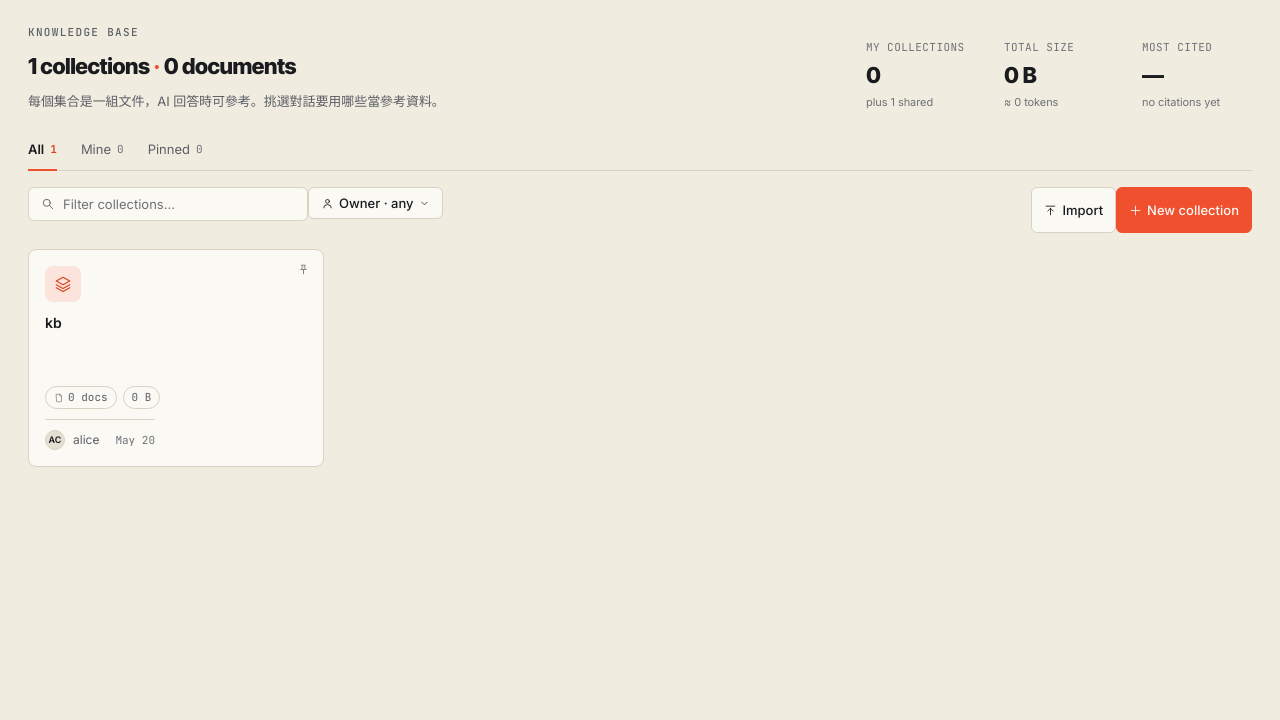
KbCollectionsPage › deletes the collection from the settings menu after confirmation
The image size is (1280, 720).
Step 1. Click the button with aria-label "Open kb" → x=63, y=284, box left=28, top=249, right=324, bottom=467
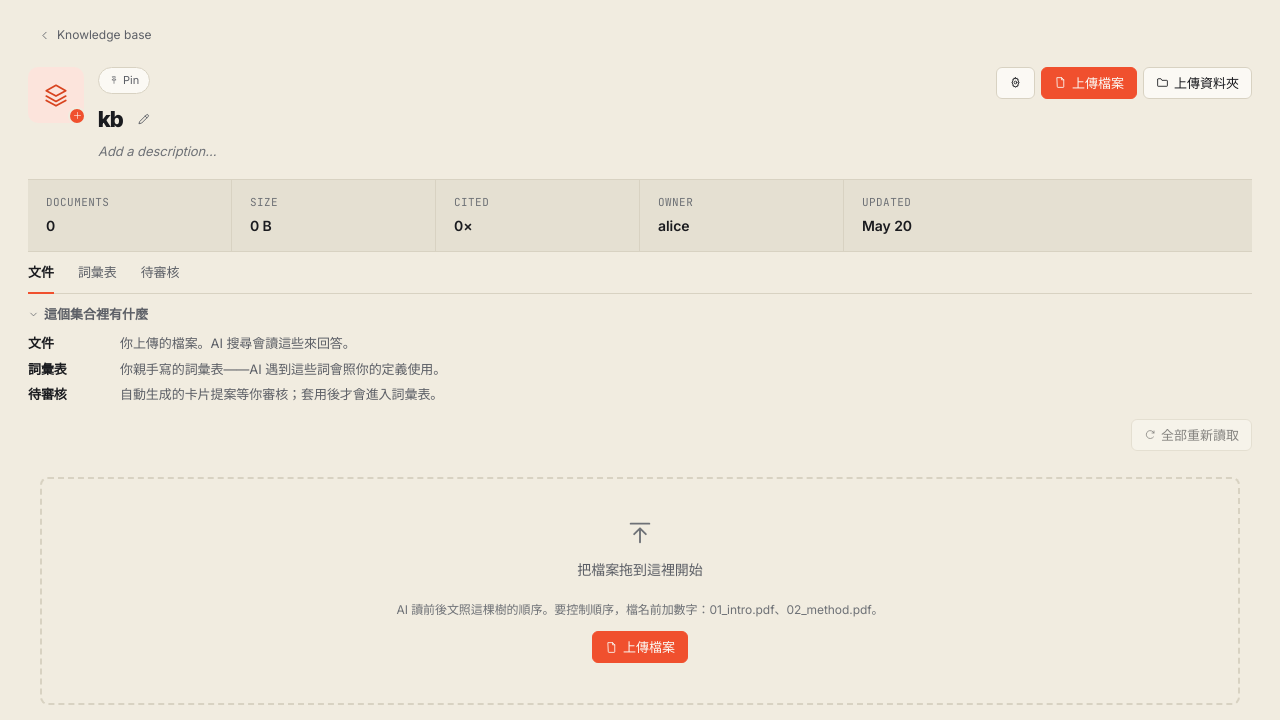
# delete lives inside the settings menu, not exposed as a bare button
Step 2. Click the button named "Collection settings" → x=1016, y=83, box left=996, top=67, right=1035, bottom=99
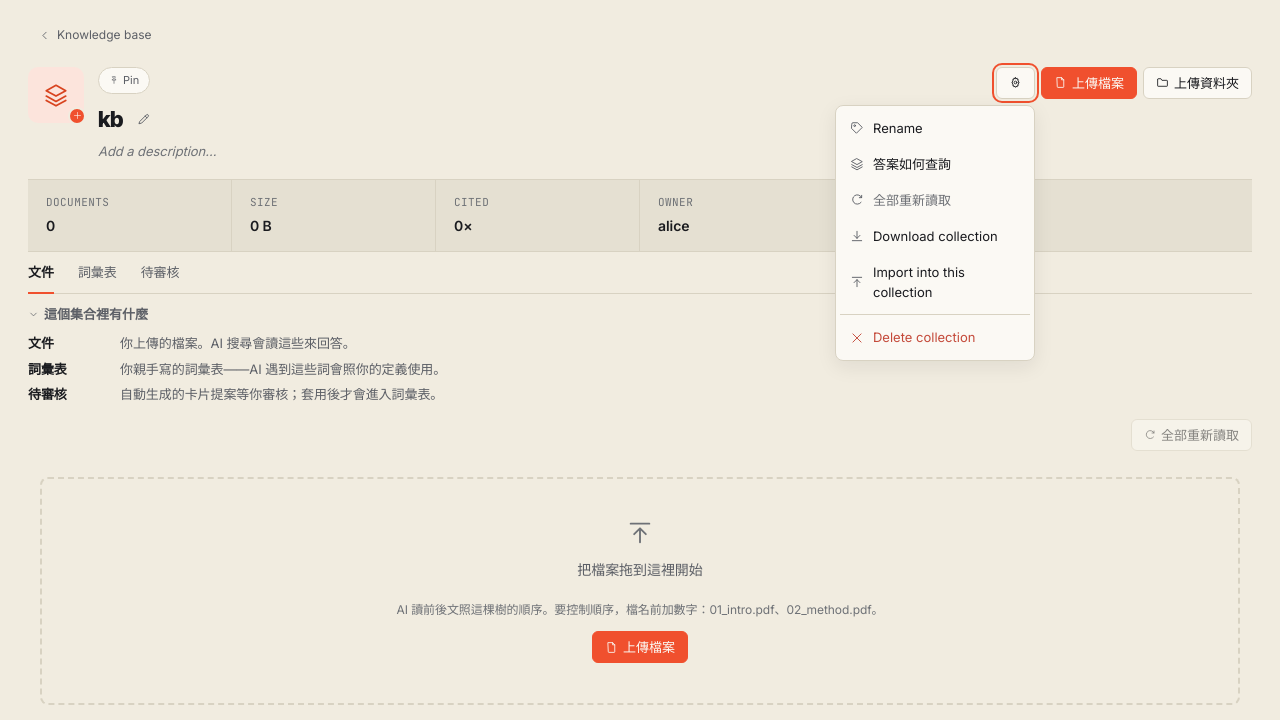
Step 3. Click the menu item "Delete collection" → x=935, y=337, box left=840, top=319, right=1030, bottom=356
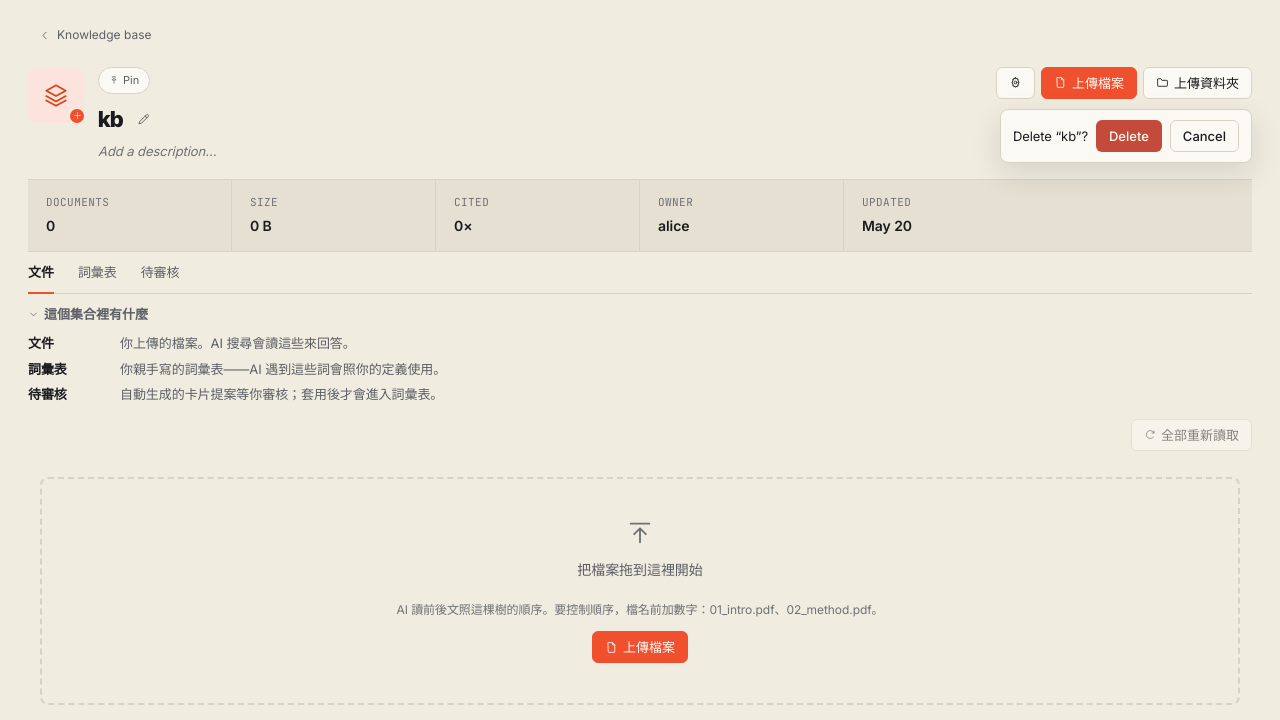
# confirm step — the destructive "Delete" button
Step 4. Click the button "Delete" → x=1129, y=136, box left=1096, top=120, right=1162, bottom=152
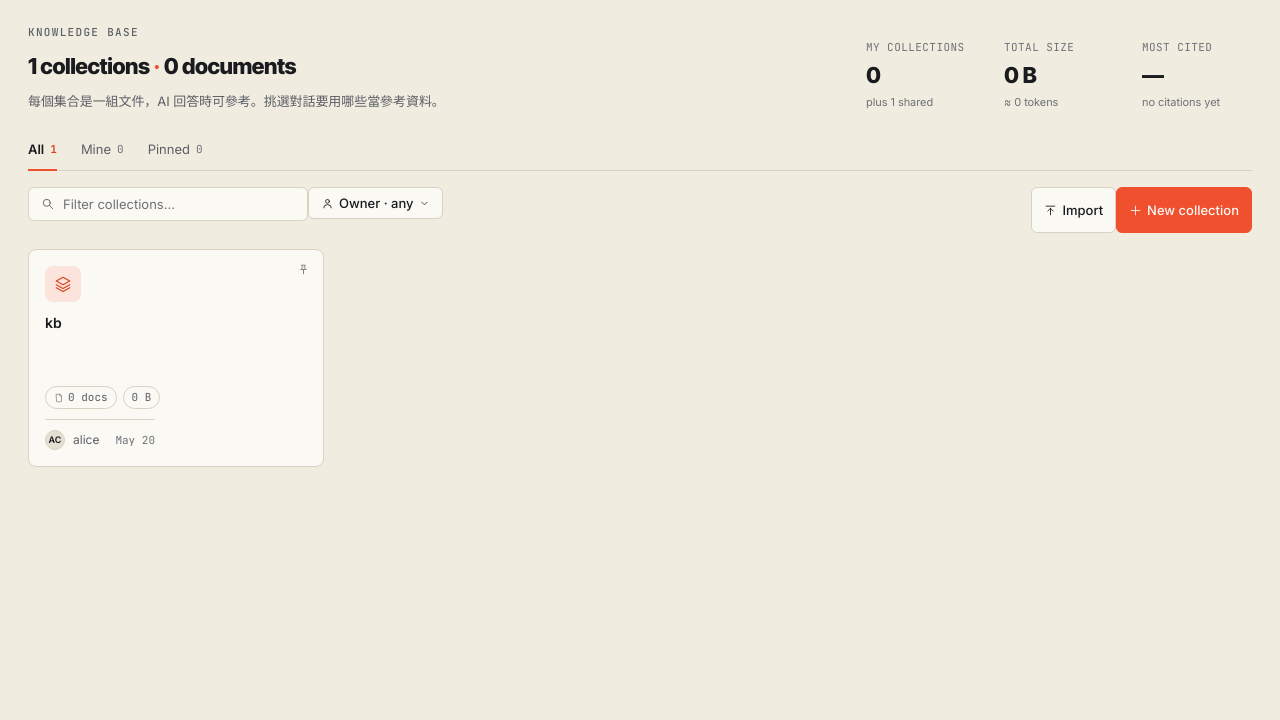
Expected: the button "New collection" is shown, left=1116, top=187, right=1252, bottom=233
